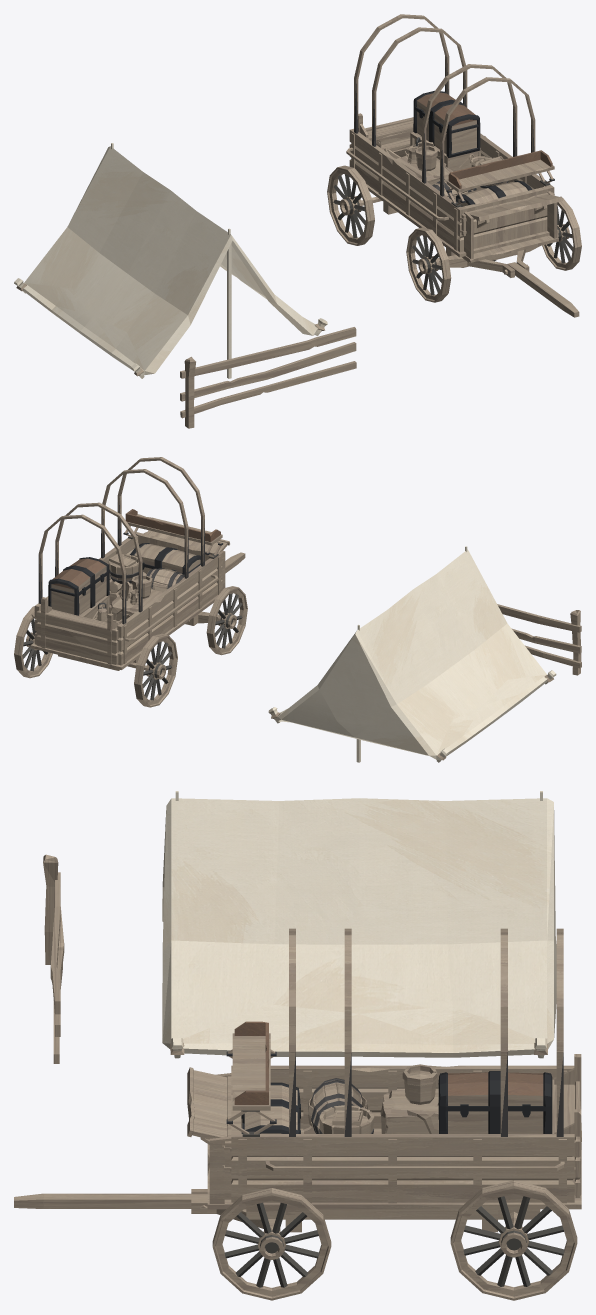
File: stage-paint.glb
The picture shows the model from 3 angles, top to bottom: view 1: azimuth 30°, elevation 25°; view 2: azimuth 150°, elevation 25°; view 3: azimuth 270°, elevation 25°; orthographic projection. The views are drawn at different scales.
Visible parts, largest first — view 1: frontier_part_0004_4, frontier_part_0161_161, frontier_part_0165_165, town_part_0021_21, frontier_part_0162_162, frontier_part_0166_166, frontier_part_0163_163, frontier_part_0160_160, frontier_part_0159_159; view 2: frontier_part_0004_4, frontier_part_0161_161, frontier_part_0165_165, frontier_part_0159_159, frontier_part_0162_162, town_part_0021_21, frontier_part_0166_166, frontier_part_0164_164; view 3: frontier_part_0004_4, frontier_part_0161_161, frontier_part_0165_165, frontier_part_0164_164, frontier_part_0160_160, frontier_part_0163_163, town_part_0021_21, frontier_part_0159_159.
Boxes of the visible parts, <box> form: frontier_part_0004_4: <box>14,143,327,378</box>; frontier_part_0161_161: <box>346,14,562,262</box>; frontier_part_0165_165: <box>376,90,531,206</box>; town_part_0021_21: <box>180,327,356,428</box>; frontier_part_0162_162: <box>327,165,374,245</box>; frontier_part_0166_166: <box>406,227,451,302</box>; frontier_part_0163_163: <box>438,246,579,317</box>; frontier_part_0160_160: <box>542,196,581,270</box>; frontier_part_0159_159: <box>358,113,413,151</box>; frontier_part_0004_4: <box>268,546,556,762</box>; frontier_part_0161_161: <box>30,457,229,670</box>; frontier_part_0165_165: <box>48,543,200,640</box>; frontier_part_0159_159: <box>36,597,118,664</box>; frontier_part_0162_162: <box>134,633,177,707</box>; town_part_0021_21: <box>497,604,581,675</box>; frontier_part_0166_166: <box>206,586,247,655</box>; frontier_part_0164_164: <box>14,606,52,678</box>; frontier_part_0004_4: <box>162,791,556,1058</box>; frontier_part_0161_161: <box>187,928,581,1232</box>; frontier_part_0165_165: <box>241,1064,552,1133</box>; frontier_part_0164_164: <box>450,1180,577,1300</box>; frontier_part_0160_160: <box>212,1188,331,1300</box>; frontier_part_0163_163: <box>14,1189,280,1230</box>; town_part_0021_21: <box>43,854,64,1063</box>; frontier_part_0159_159: <box>552,1054,581,1197</box>.
Bounding box in the file's own units: 8.66 × 3.58 × 5.88.
Materials: 2 (2 with a texture image).
